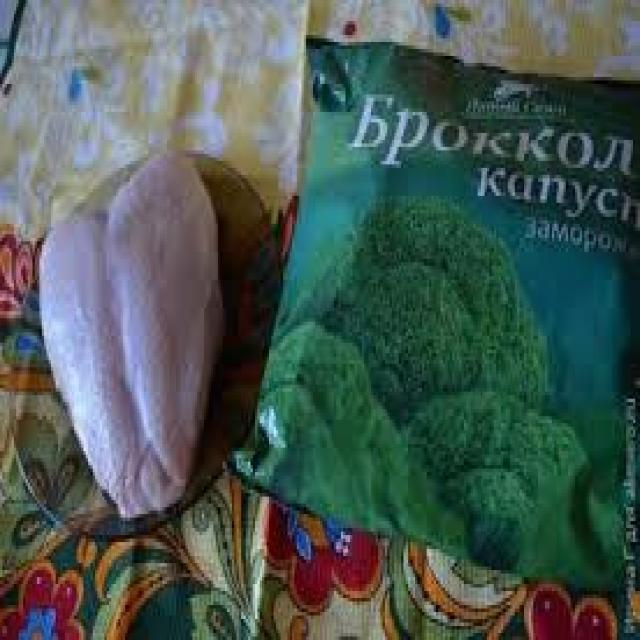broccoli: (346, 199, 553, 562)
